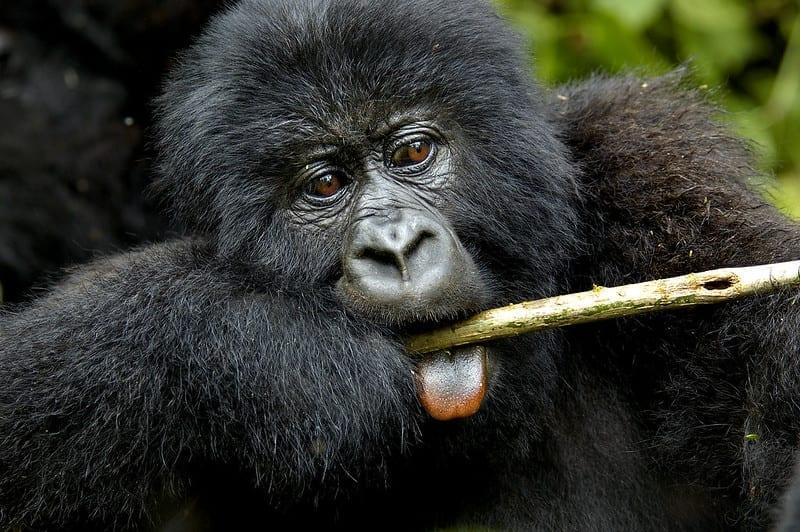goriile_montagne: (6, 2, 785, 514)
